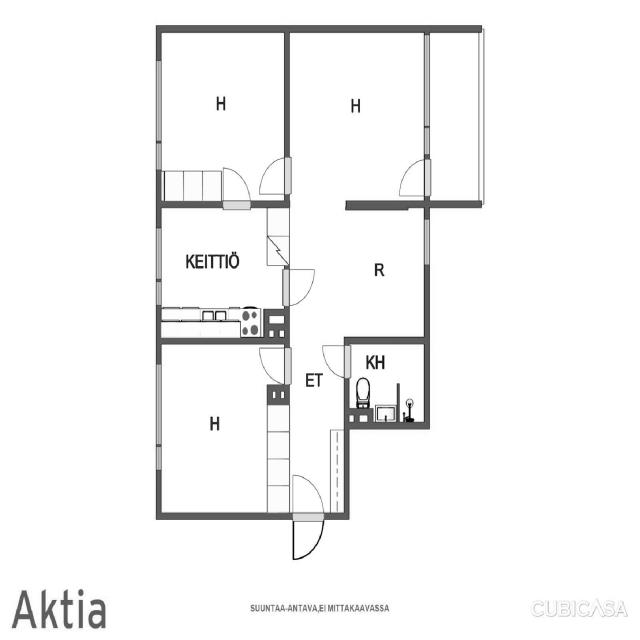door: (282, 473, 334, 560), (278, 269, 323, 307), (250, 343, 292, 383), (396, 156, 432, 197), (221, 164, 253, 209), (256, 156, 292, 192), (320, 344, 352, 375)
window: (153, 62, 166, 170), (422, 33, 432, 153), (154, 363, 165, 470), (152, 226, 162, 304), (422, 219, 433, 265)
zone: (286, 30, 429, 206), (158, 340, 288, 517), (159, 28, 287, 203), (288, 204, 426, 342), (157, 205, 286, 342), (290, 340, 348, 518), (344, 338, 430, 427)
